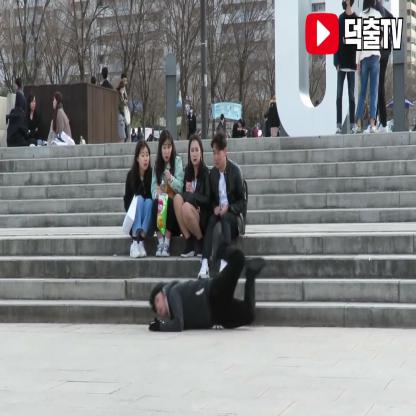Fall_Down: (146, 219, 269, 340)
